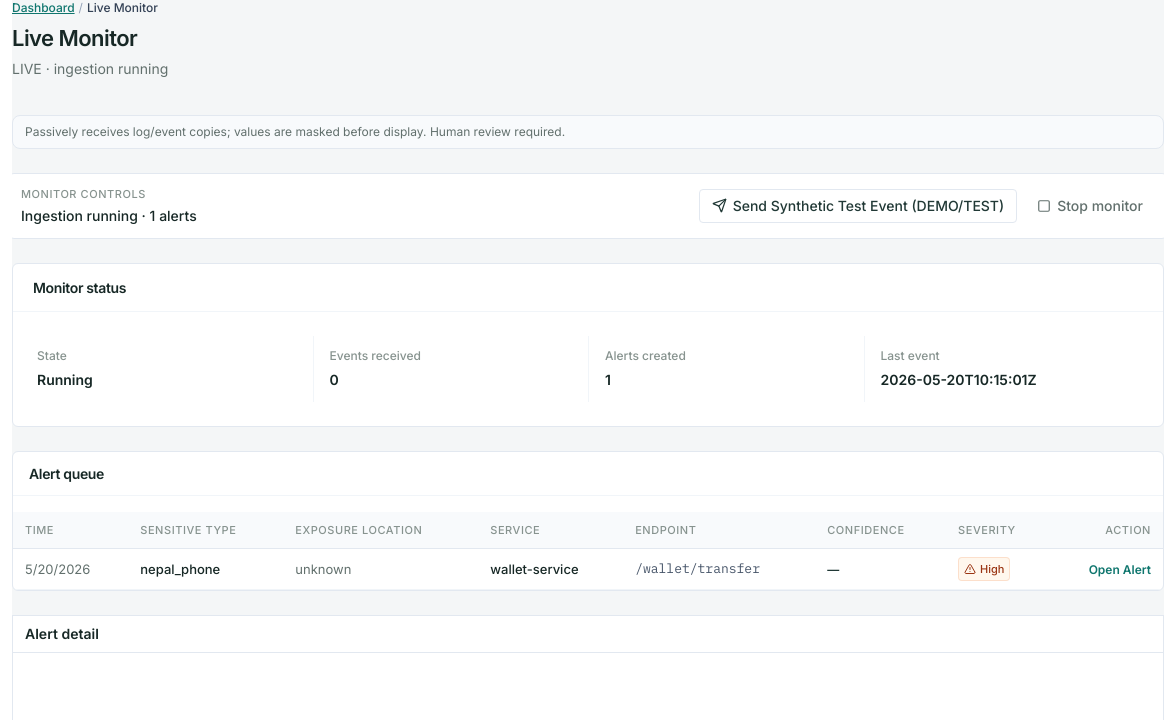
Test: LivePrivacyMonitorPage › can open alert detail and show human review notice
Expected: the text "wallet-service" is shown, top-left (478, 549), bottom-right (623, 590)
Click the button "Open Alert" at (1120, 570), box top-left (1089, 562), bottom-right (1151, 578)
(page scrolled)
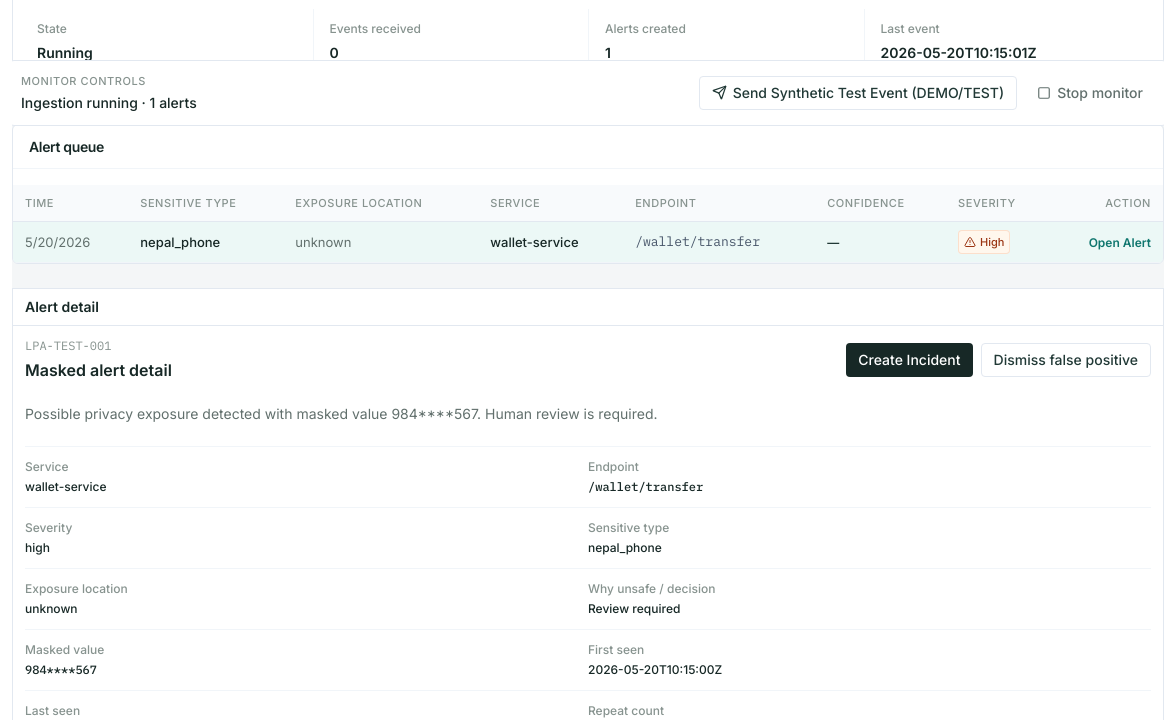
Expected: the heading "Masked alert detail" is shown, top-left (25, 358), bottom-right (172, 382)
Expected: the button "Create Incident" is shown, top-left (846, 343), bottom-right (972, 377)
